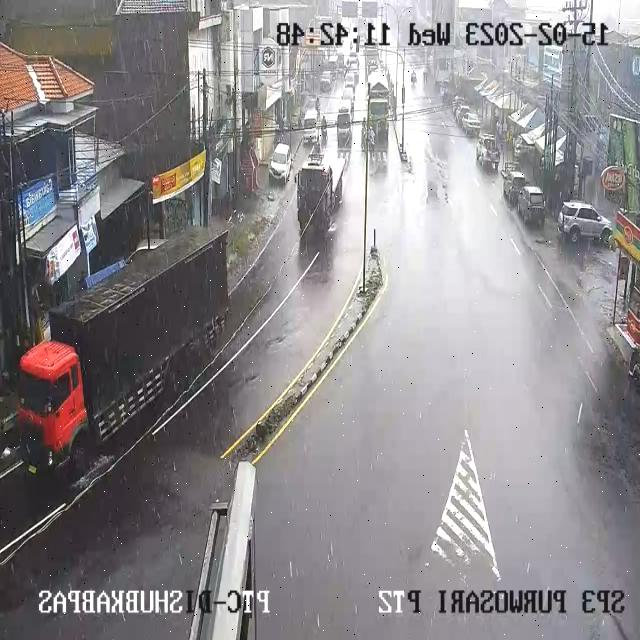Car: (554, 200, 622, 243), (515, 186, 547, 225), (501, 166, 526, 203), (270, 144, 293, 183), (476, 134, 500, 169), (336, 106, 352, 146), (302, 109, 320, 139), (461, 113, 482, 136), (514, 136, 534, 160), (455, 105, 471, 127), (452, 96, 466, 118), (364, 44, 378, 64), (320, 72, 333, 92), (437, 79, 450, 99), (338, 99, 352, 117), (304, 93, 318, 110), (347, 52, 359, 71), (328, 55, 339, 74), (344, 72, 356, 89), (367, 57, 379, 73), (342, 86, 354, 102), (335, 53, 345, 69), (352, 69, 360, 84), (330, 69, 338, 82)
Truck: (4, 224, 229, 486), (295, 150, 355, 240), (366, 70, 392, 158)
